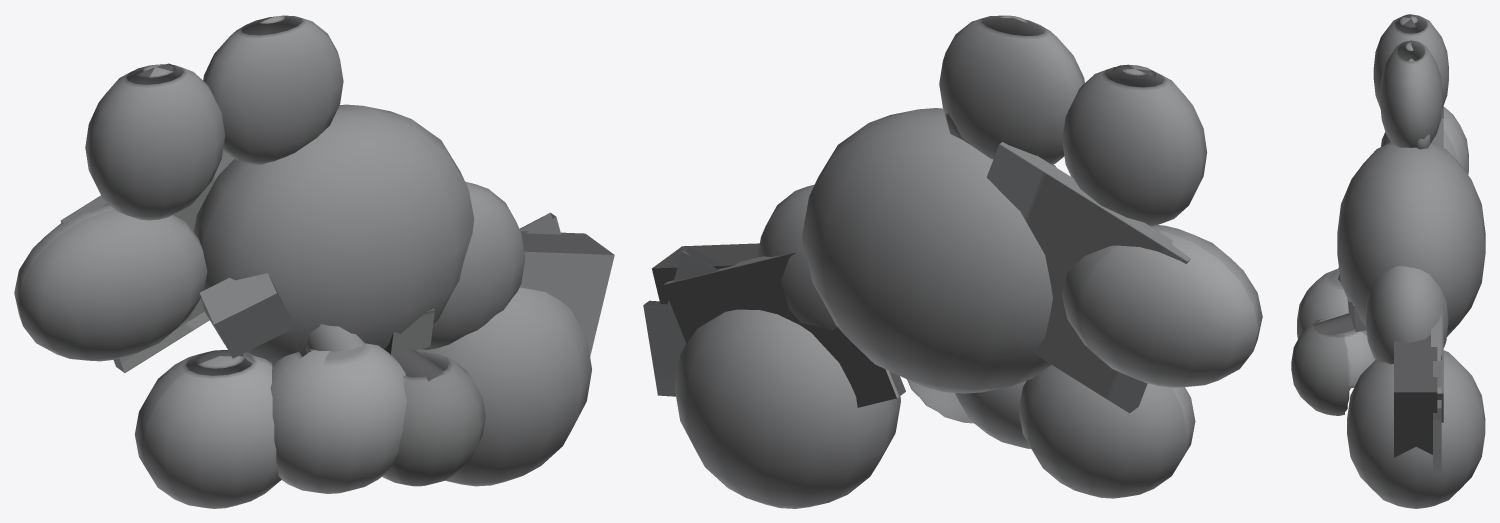
3 views of the same model, side by side, from view 1: azimuth 30°, elevation 25°; view 2: azimuth 150°, elevation 25°; view 3: azimuth 270°, elevation 25° (orthographic). The views are drawn at different scales.
Size of the model in its own units: 1.14 by 0.9701 by 0.4493.
